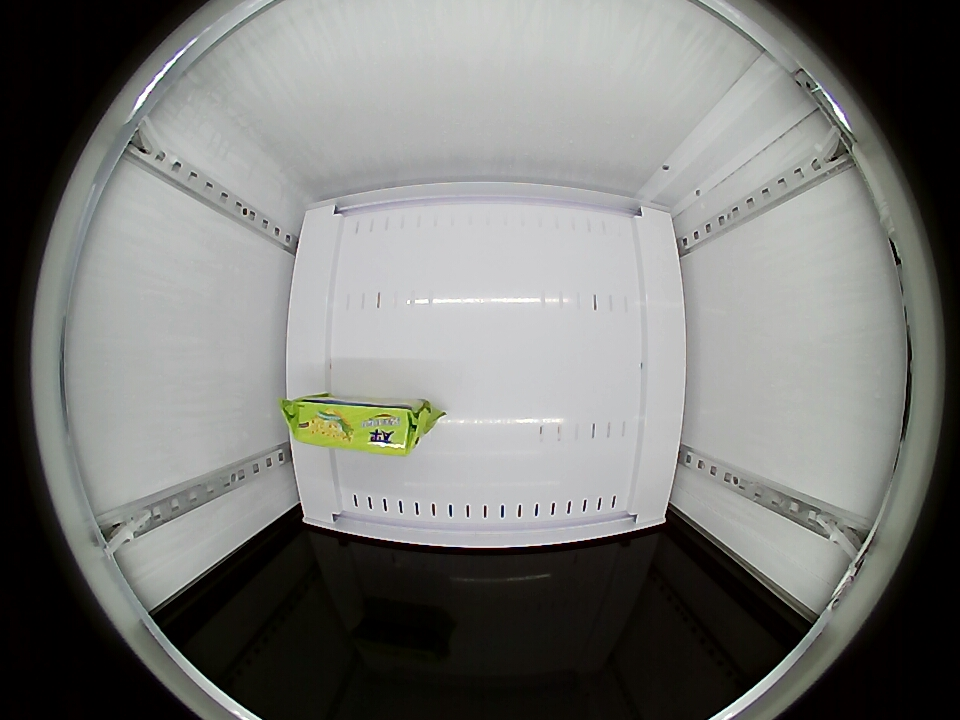taipingshuda: (286, 398, 427, 456)
